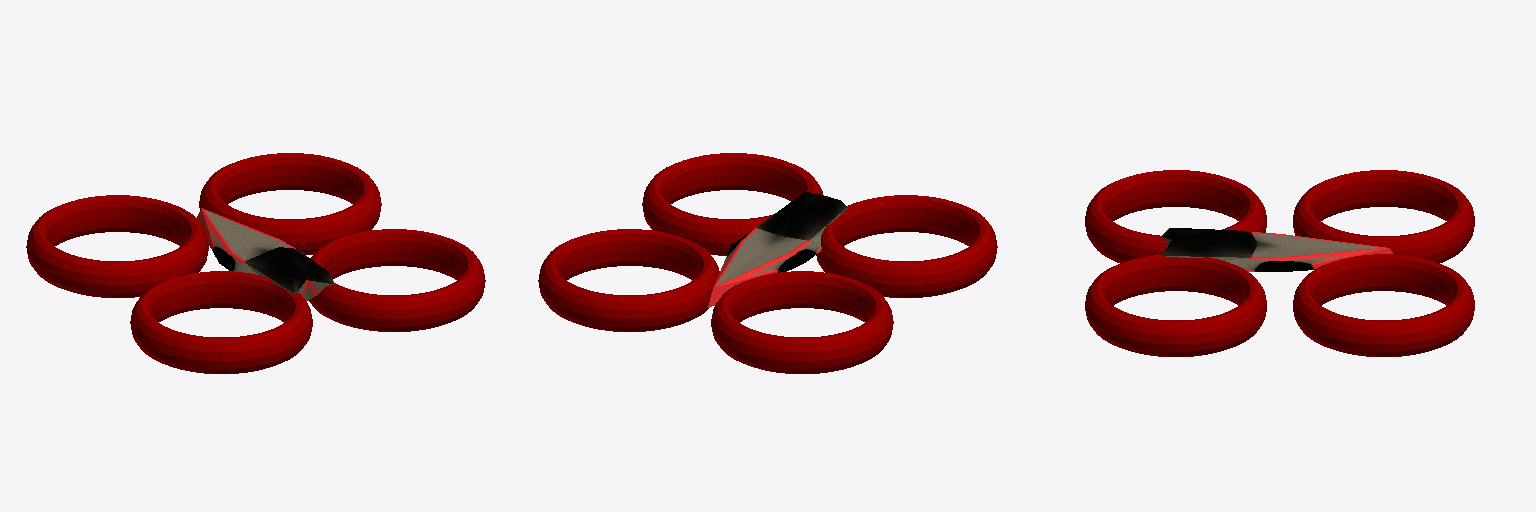
3 views of the same model, side by side, from view 1: azimuth 30°, elevation 25°; view 2: azimuth 150°, elevation 25°; view 3: azimuth 270°, elevation 25° (orthographic).
Parts seen in each view (by area): view 1: Cube.002, Cube; view 2: Cube.002, Cube; view 3: Cube.002, Cube.
Boxes of the visible parts, x1=… form: Cube.002: x1=26, y1=153, x2=485, y2=373; Cube: x1=197, y1=208, x2=335, y2=301; Cube.002: x1=538, y1=153, x2=997, y2=373; Cube: x1=708, y1=192, x2=847, y2=307; Cube.002: x1=1085, y1=170, x2=1474, y2=356; Cube: x1=1161, y1=228, x2=1392, y2=271.
Size of the model in its own units: 10.26 by 1.52 by 10.49.
Materials: 2 (1 with a texture image).